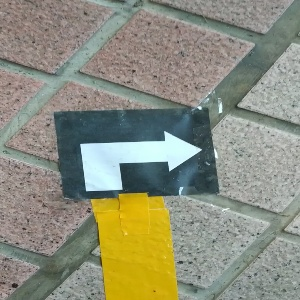right: (52, 107, 218, 197)
